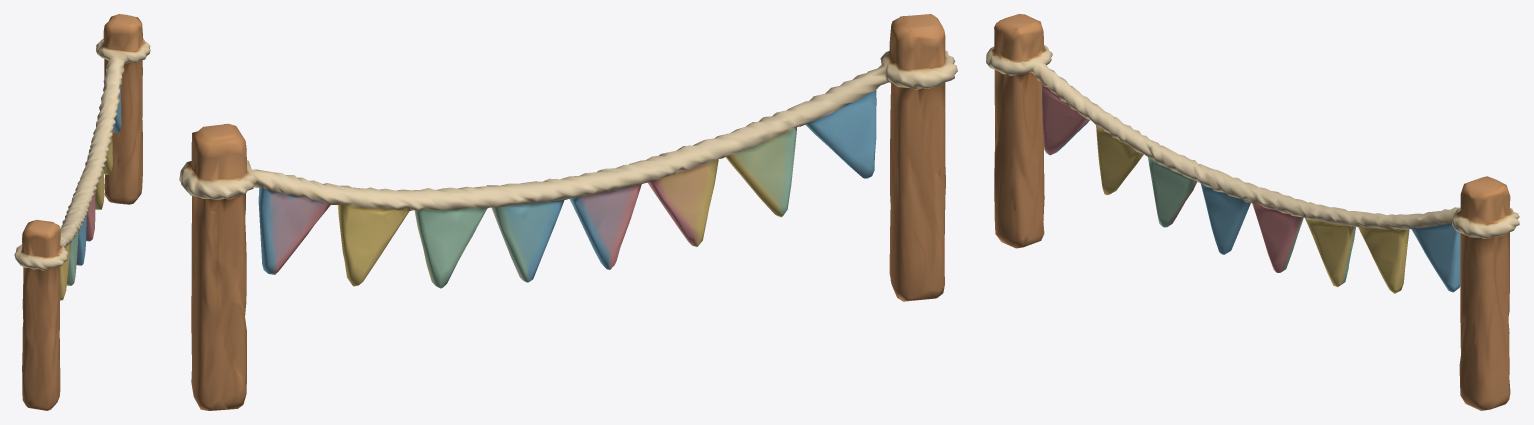
File: bunting.glb
3 views of the same model, side by side, from view 1: azimuth 30°, elevation 25°; view 2: azimuth 150°, elevation 25°; view 3: azimuth 270°, elevation 25° (orthographic). The views are drawn at different scales.
Parts seen in each view (by area): view 1: tripo_node_0a487fa8-dd8f-4036-967d-6081a1aef57c; view 2: tripo_node_0a487fa8-dd8f-4036-967d-6081a1aef57c; view 3: tripo_node_0a487fa8-dd8f-4036-967d-6081a1aef57c.
Part boxes in pixels (x1=…): tripo_node_0a487fa8-dd8f-4036-967d-6081a1aef57c: x1=14, y1=14, x2=150, y2=410; tripo_node_0a487fa8-dd8f-4036-967d-6081a1aef57c: x1=179, y1=14, x2=957, y2=410; tripo_node_0a487fa8-dd8f-4036-967d-6081a1aef57c: x1=986, y1=14, x2=1519, y2=410.
Bounding box in the file's own units: 0.8445 × 0.4559 × 1.
1 material, 1 textured.
